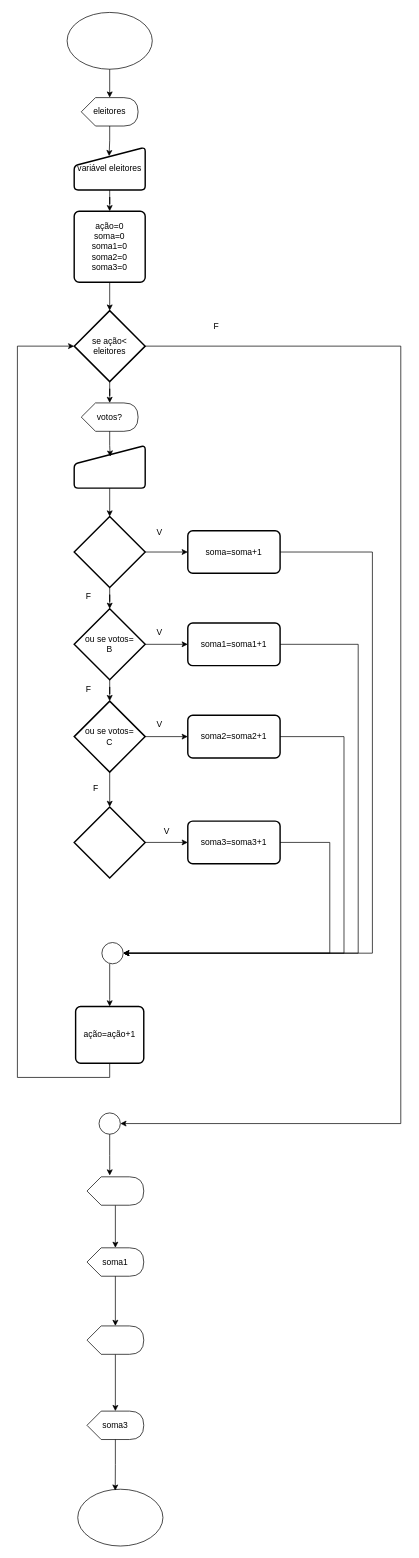
The diagram is 419 pixels wide and 1558 high, and some of its shapes have lost their labels. Here are the shapes that lost their labels. From the top down, the centre of each, then its label:
At (x=109, y=40): "INICIO".
At (x=109, y=466): "variável votos".
At (x=109, y=551): "se votos= A".
At (x=109, y=842): "ou".
At (x=115, y=1190): "soma".
At (x=115, y=1339): "soma2".
At (x=120, y=1517): "FINAL".
